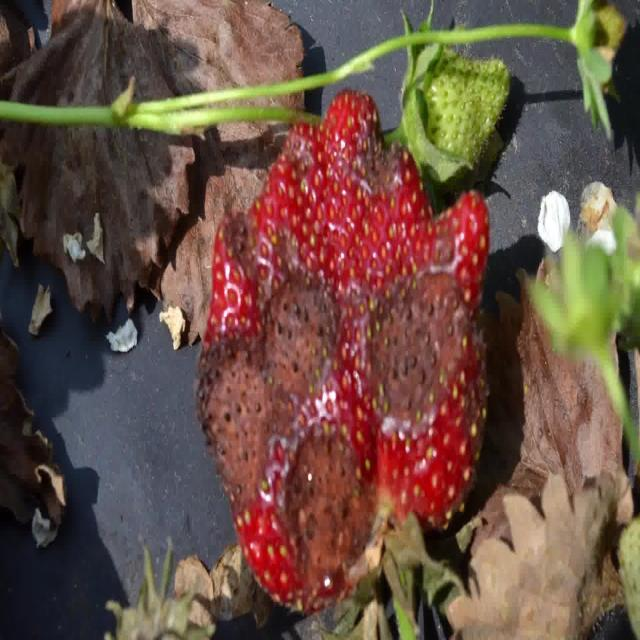Mancha negra Antracnosis: (198, 227, 336, 504), (354, 237, 484, 458), (253, 406, 410, 588), (270, 71, 417, 243)
